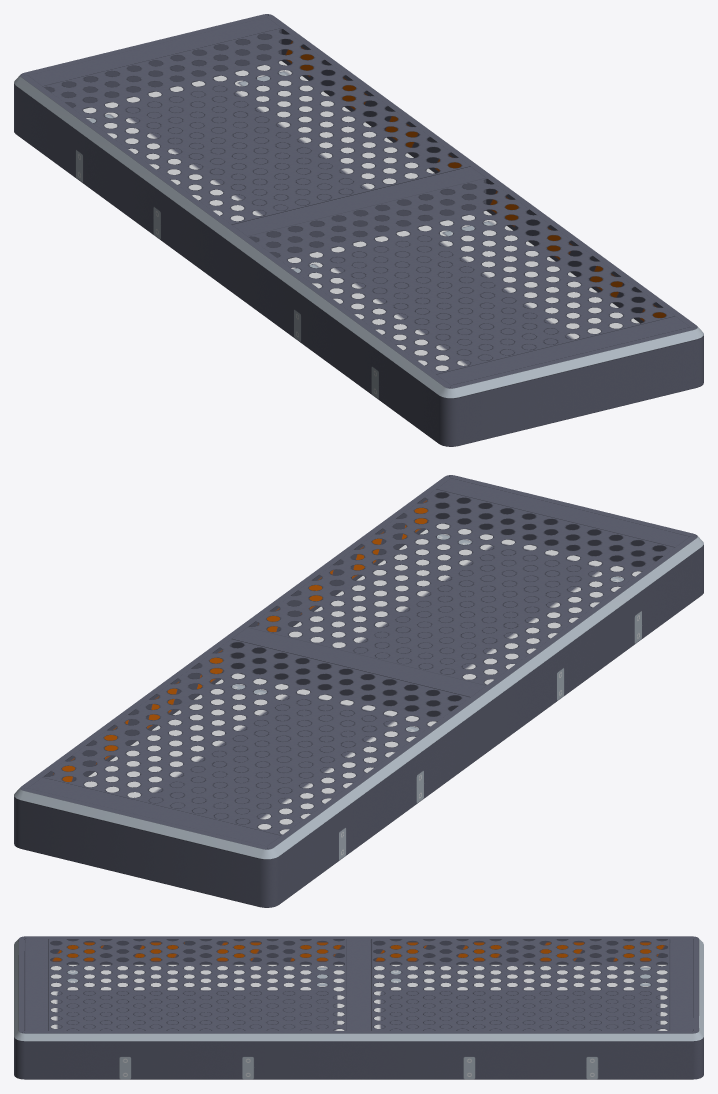
Rendered from Thing_12.FBX.
3 views of the same model, one above another, from view 1: azimuth 30°, elevation 25°; view 2: azimuth 150°, elevation 25°; view 3: azimuth 270°, elevation 25° (orthographic). The views are drawn at different scales.
Visible parts, largest first — view 1: Thing_12; view 2: Thing_12; view 3: Thing_12.
Part boxes in pixels (box(x1,y1,x2,y2)): Thing_12: box(14, 14, 703, 446); Thing_12: box(14, 475, 703, 907); Thing_12: box(14, 936, 703, 1079).
Bounding box in the file's own units: 1.24 × 0.25 × 3.56.
